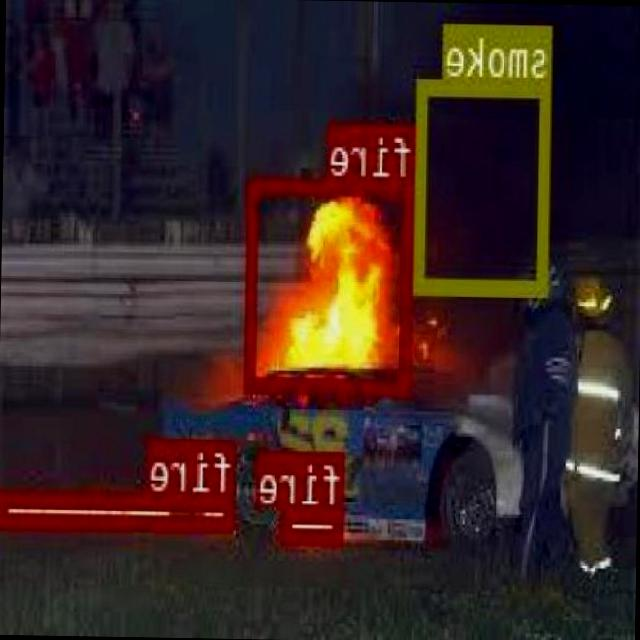fire: (246, 174, 415, 391), (1, 489, 236, 527), (284, 506, 344, 540)
smoke: (414, 77, 554, 292)
